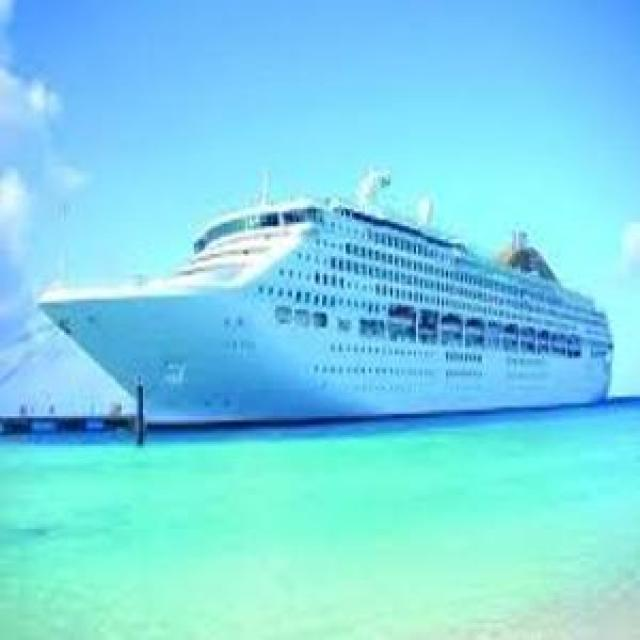passenger ship: (33, 194, 625, 413)
